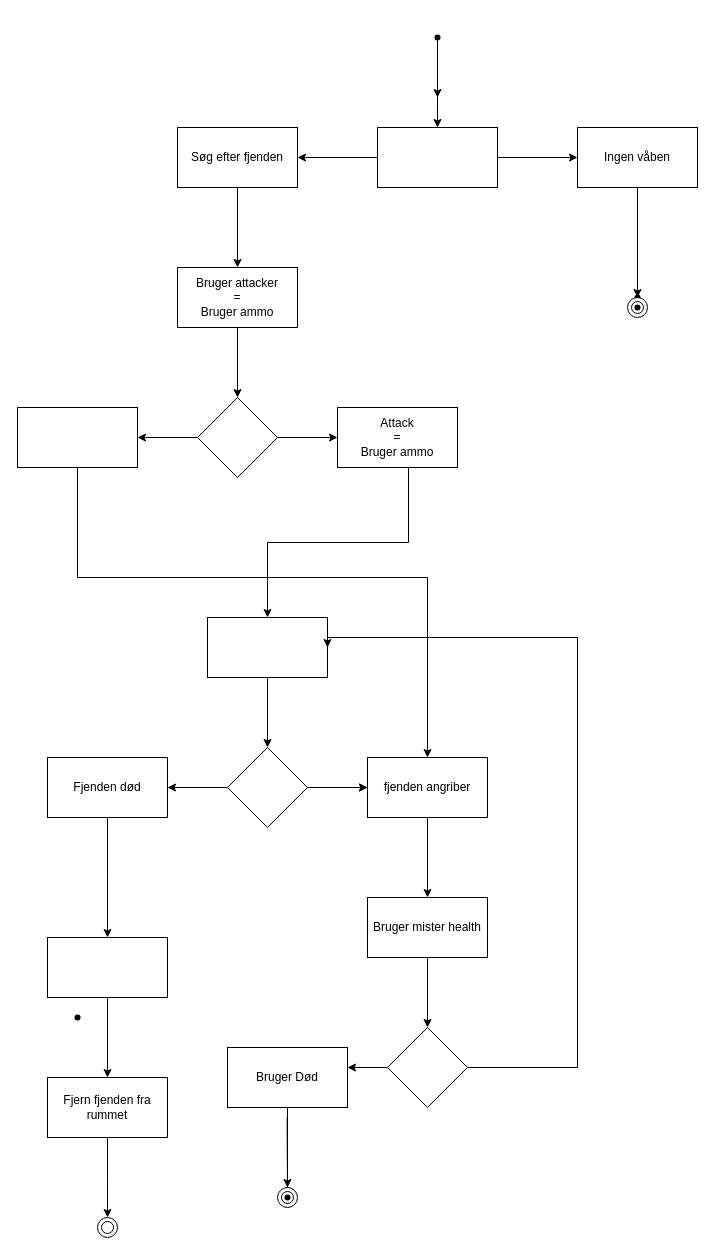
Image size: 715x1255. Some labels were removed from this diagram. Each missing label, with the box of its shape:
Attack: (376, 126, 498, 188)
Drop fjendes våben i rummet: (46, 936, 168, 998)
Fjenden mister health: (206, 616, 328, 678)
Ikke mere ammo: (16, 406, 138, 468)
